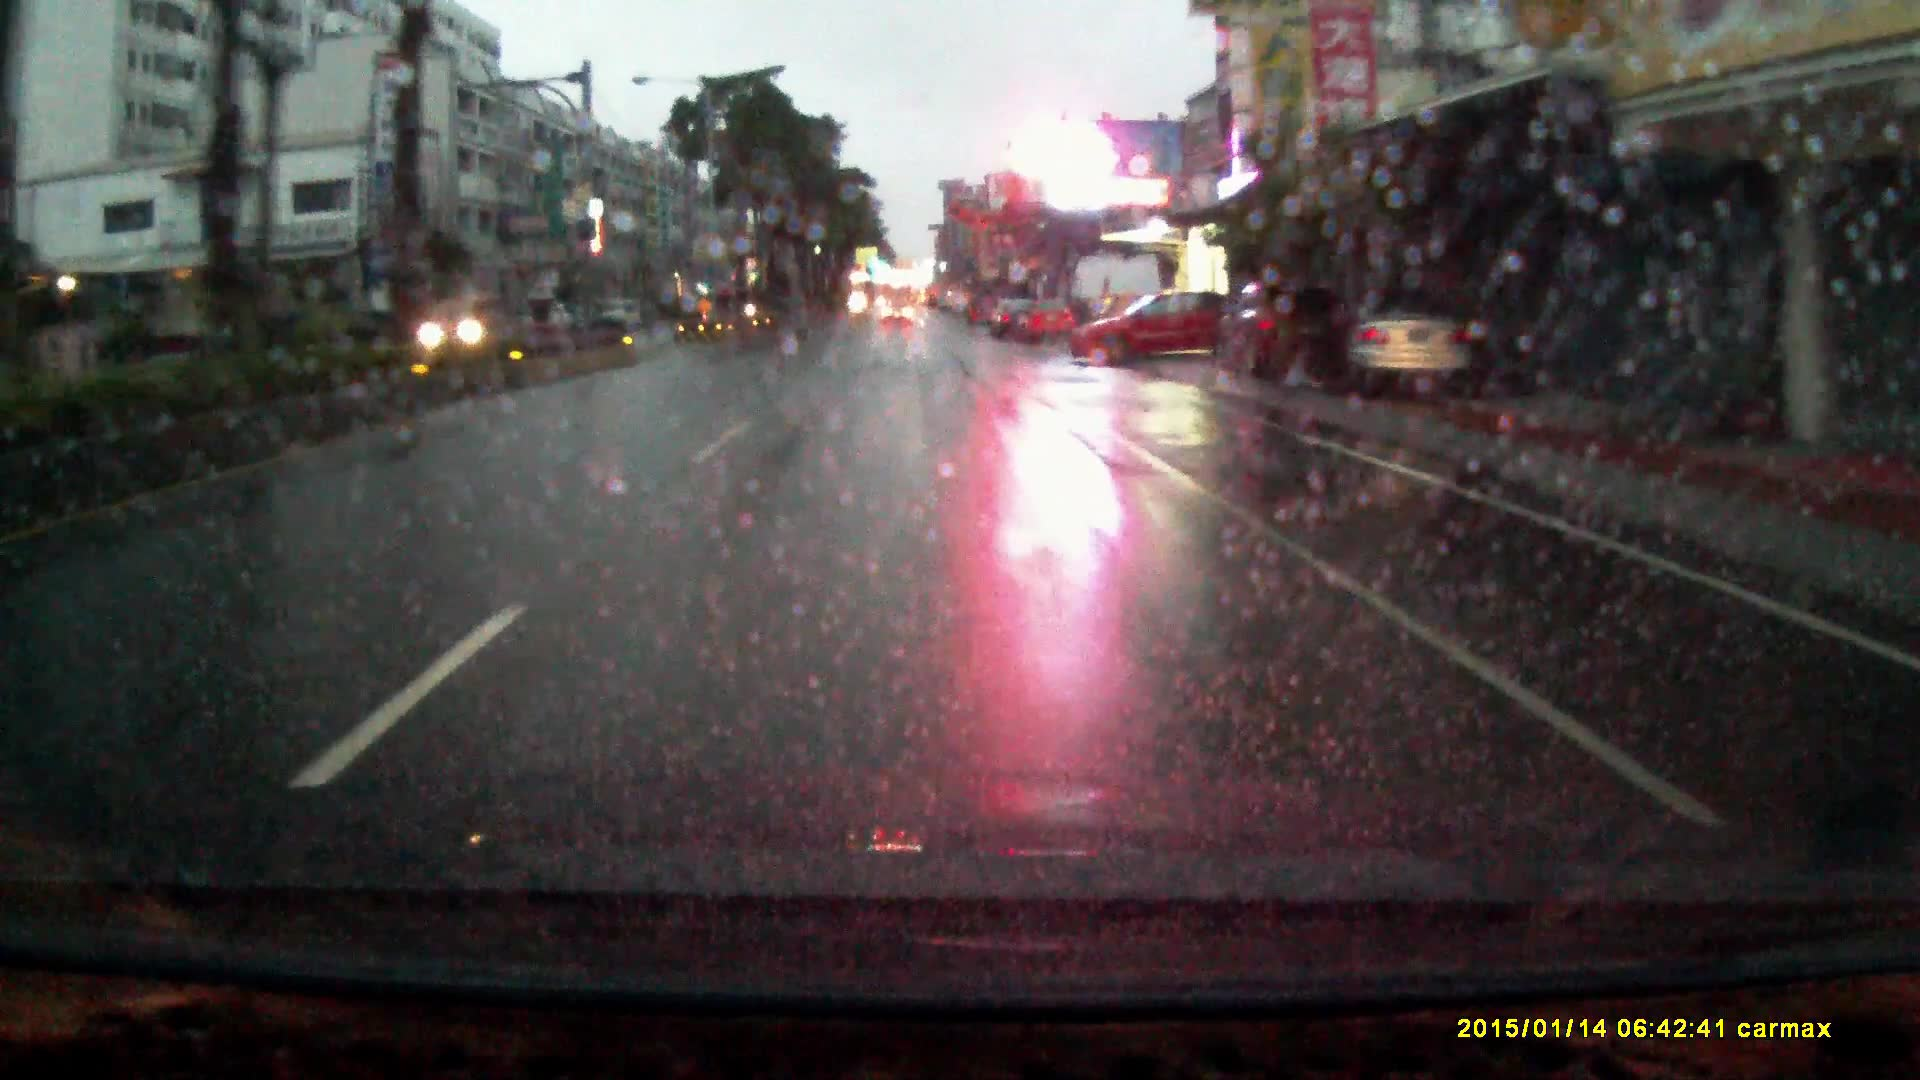vehicle: (1320, 293, 1484, 402), (1213, 276, 1356, 382), (1063, 286, 1232, 365), (419, 294, 512, 349), (1011, 295, 1076, 343), (988, 298, 1036, 342), (884, 298, 915, 326)
